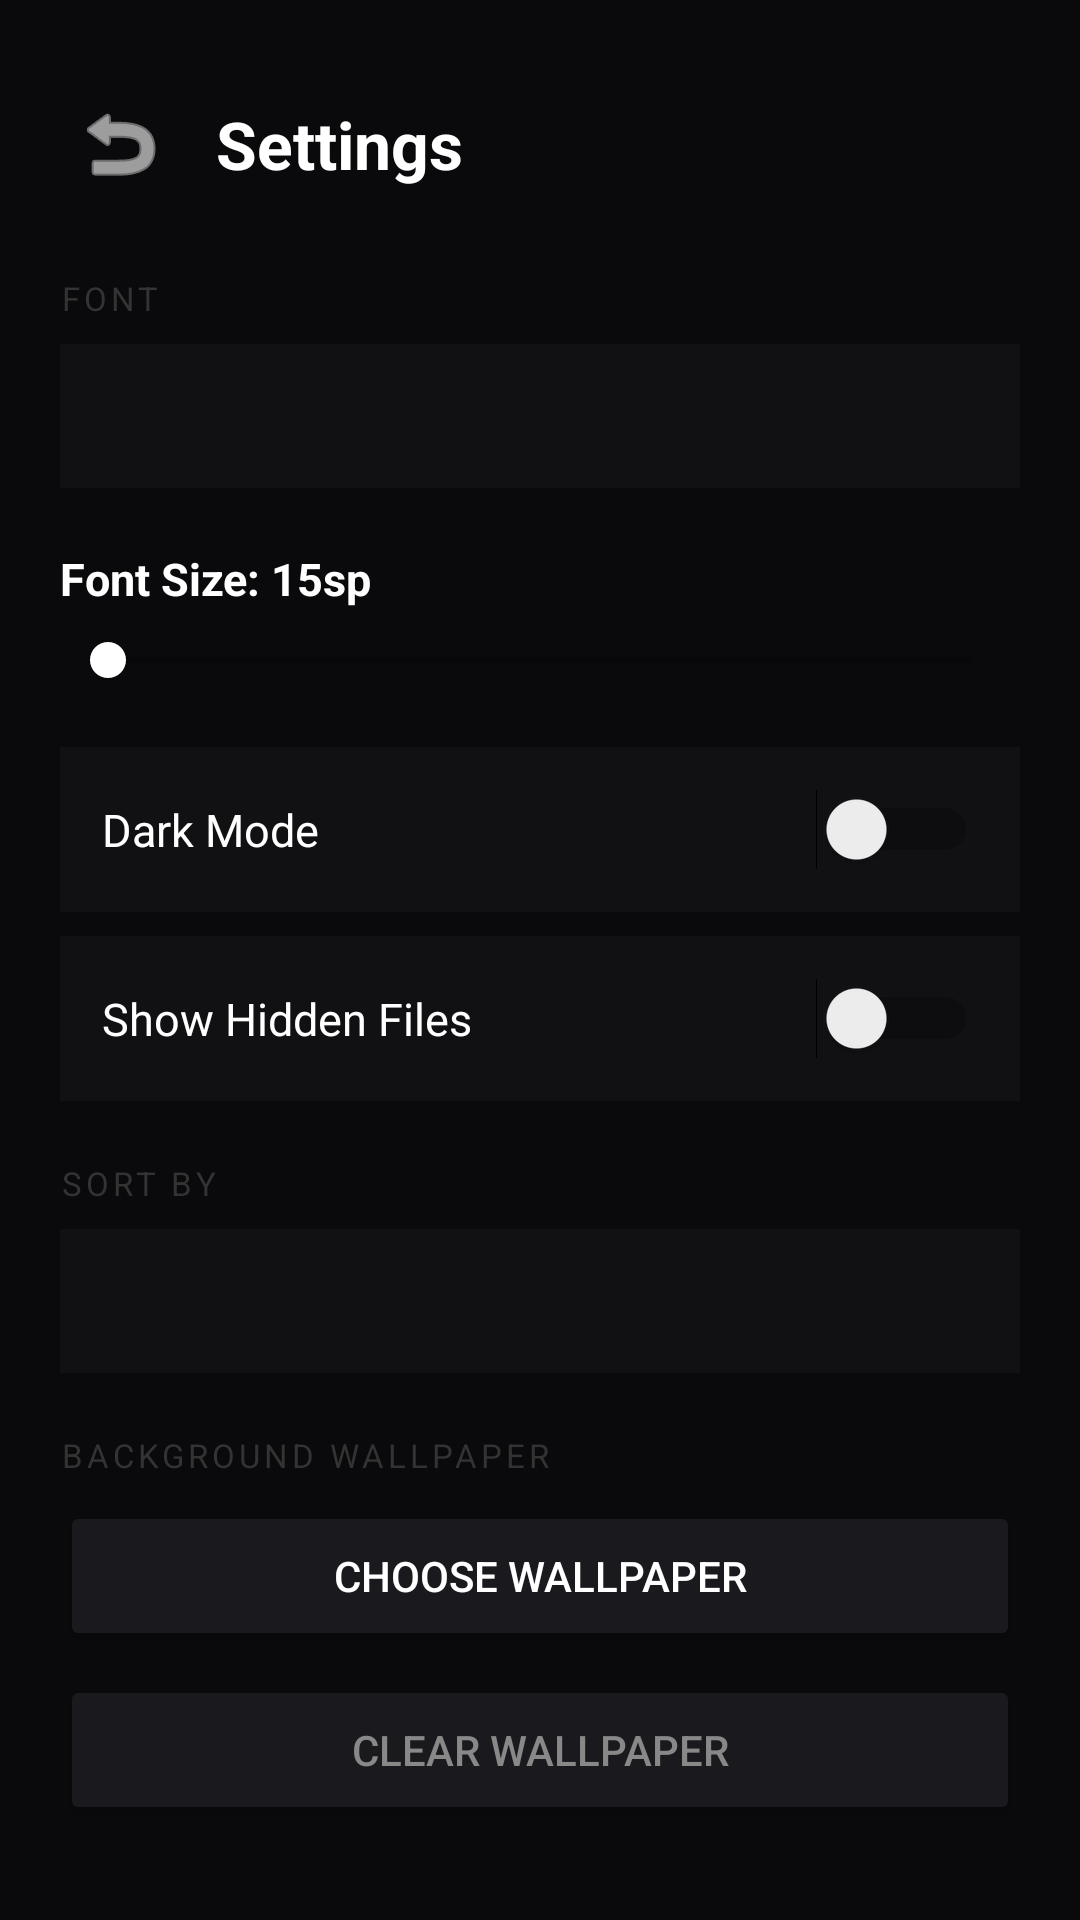

Named icons in this screenshot (1080×1920) and their bounding boxes, (x1=x1, y1=y1, x2=x2, y2=y2):
revert: (x1=87, y1=113, x2=156, y2=176)
